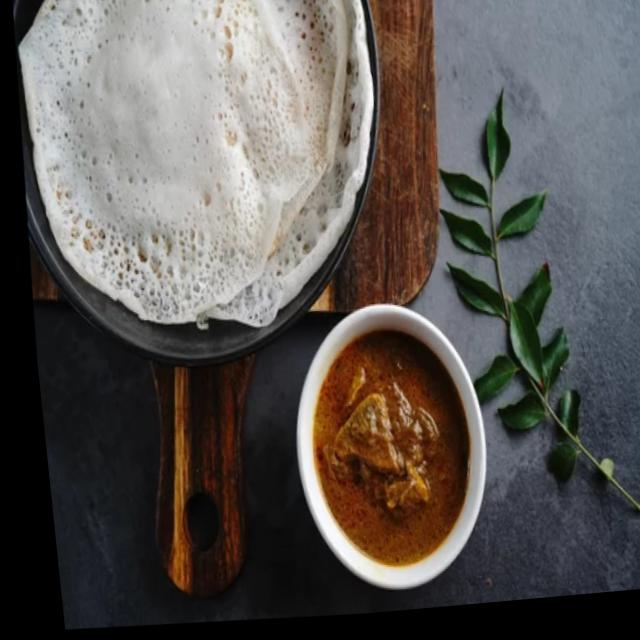AAPAM: (17, 0, 372, 329)
FISH CURRY: (314, 330, 469, 561)
